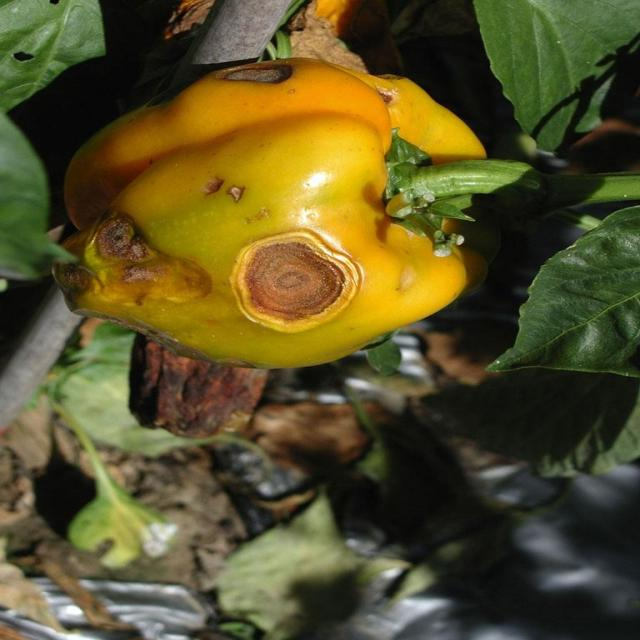Moko: (208, 217, 376, 342)
